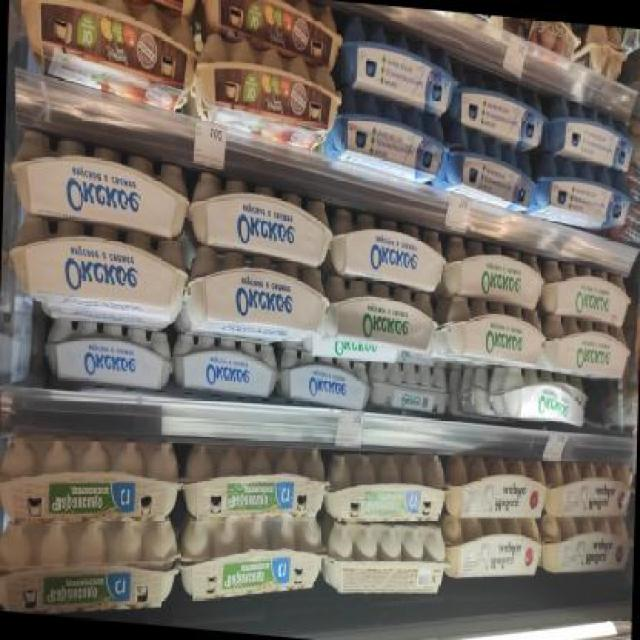Egg: (0, 506, 182, 626), (9, 132, 186, 242), (8, 219, 188, 326), (23, 0, 197, 110), (0, 429, 185, 531), (196, 40, 341, 151), (183, 245, 329, 343), (180, 512, 322, 610), (188, 178, 332, 270), (180, 438, 328, 527), (340, 21, 462, 121), (322, 445, 447, 530), (327, 99, 448, 186), (45, 319, 172, 396), (331, 209, 446, 294), (205, 0, 338, 64), (324, 279, 434, 352), (432, 134, 534, 211), (446, 74, 548, 151), (530, 156, 632, 233), (170, 332, 279, 403), (446, 450, 546, 525), (444, 515, 540, 590), (542, 96, 636, 172), (443, 238, 540, 310), (435, 299, 543, 363), (538, 511, 634, 582), (490, 365, 588, 429), (541, 460, 634, 522), (540, 261, 630, 324), (277, 352, 372, 411), (541, 318, 631, 380)
